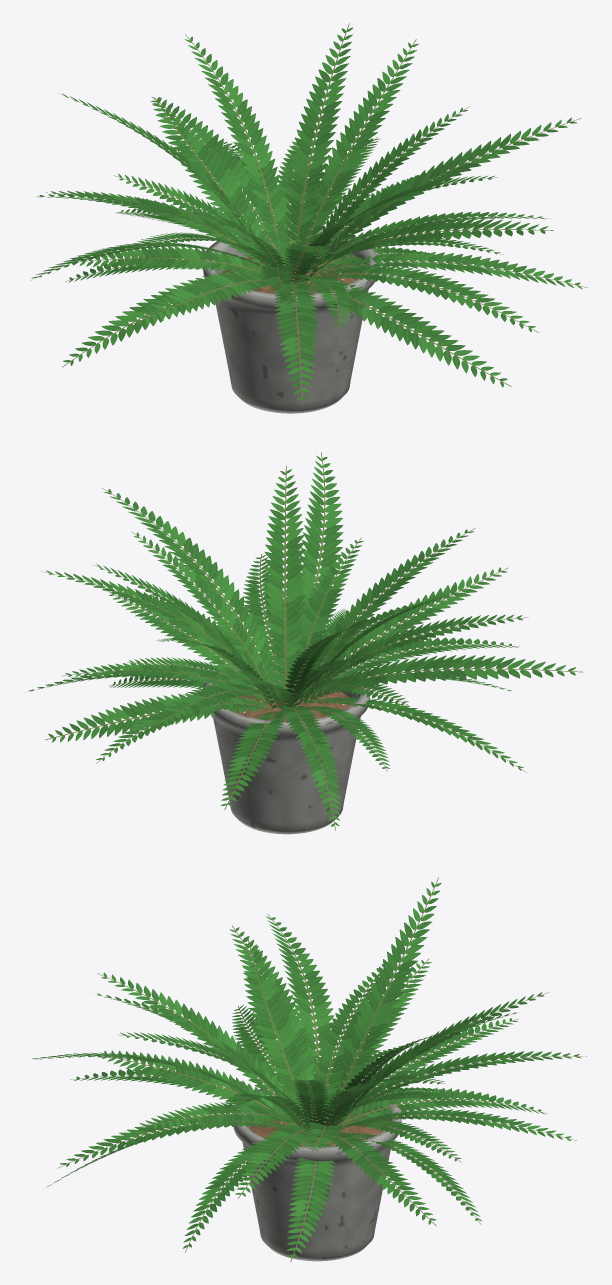
The model's file is fern.glb.
3 renders of one model, top to bottom at view 1: azimuth 30°, elevation 25°; view 2: azimuth 150°, elevation 25°; view 3: azimuth 270°, elevation 25°, orthographic. The views are drawn at different scales.
Visible parts, largest first — view 1: piece-0, piece-39, piece-34, piece-31, piece-4, piece-29, piece-28, piece-9, piece-12, piece-7, piece-25, piece-11 (+23 smaller); view 2: piece-0, piece-33, piece-19, piece-28, piece-25, piece-30, piece-36, piece-22, piece-5, piece-38, piece-27, piece-8 (+21 smaller); view 3: piece-0, piece-37, piece-35, piece-19, piece-17, piece-30, piece-2, piece-32, piece-8, piece-10, piece-27, piece-21 (+23 smaller).
Boxes of the visible parts, x1,y1,x2,y2 form: piece-0: (202, 227, 377, 413); piece-39: (285, 23, 352, 261); piece-34: (185, 34, 288, 260); piece-31: (296, 39, 418, 269); piece-4: (300, 278, 511, 387); piece-29: (152, 97, 273, 267); piece-28: (310, 117, 581, 273); piece-9: (274, 280, 318, 404); piece-12: (309, 265, 538, 332); piece-7: (312, 251, 587, 289); piece-25: (305, 218, 553, 280); piece-11: (68, 245, 264, 276); piece-0: (203, 655, 370, 834); piece-33: (264, 465, 305, 696); piece-19: (297, 655, 583, 704); piece-28: (101, 487, 275, 682); piece-25: (287, 452, 343, 689); piece-30: (304, 528, 475, 692); piece-36: (131, 531, 270, 695); piece-22: (301, 567, 508, 698); piece-5: (45, 693, 264, 742); piece-38: (290, 537, 363, 693); piece-27: (300, 614, 528, 702); piece-8: (220, 711, 286, 809); piece-0: (233, 1083, 401, 1261); piece-37: (332, 877, 441, 1116); piece-35: (242, 938, 310, 1119); piece-19: (266, 914, 334, 1120); piece-17: (102, 1050, 298, 1125); piece-30: (97, 972, 295, 1122); piece-2: (286, 1135, 335, 1261); piece-32: (311, 964, 384, 1123); piece-8: (335, 1088, 547, 1128); piece-10: (323, 1131, 436, 1225); piece-27: (229, 925, 316, 1119); piece-21: (328, 1051, 586, 1123).
Size of the model in its own units: 0.5944 by 0.3071 by 0.5642.
3 materials, 3 textured.
